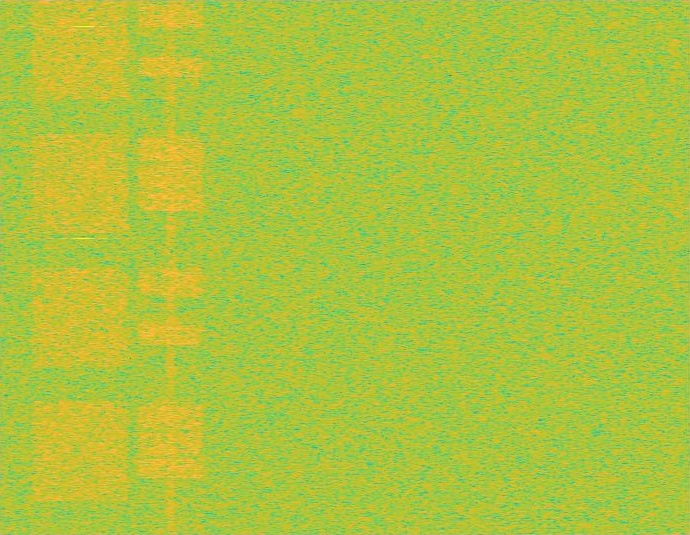5G: (29, 0, 132, 534)
DSSS: (166, 0, 176, 534)
LTE: (137, 0, 206, 534)
Radar: (77, 0, 91, 534)
